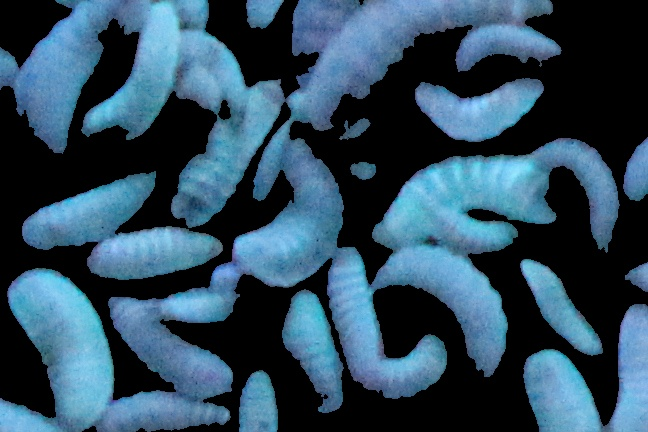larvae: (286, 1, 566, 140), (370, 242, 518, 388), (172, 79, 291, 226), (71, 1, 181, 158), (9, 1, 115, 158), (7, 272, 117, 418), (12, 157, 161, 257), (238, 150, 343, 283), (535, 128, 637, 263), (311, 232, 392, 391), (402, 62, 542, 149), (108, 301, 229, 395), (514, 252, 609, 370), (117, 299, 231, 393), (81, 222, 219, 288), (279, 287, 347, 409), (445, 12, 564, 78), (518, 345, 596, 432), (605, 290, 648, 432), (381, 329, 458, 401), (98, 391, 230, 432), (238, 360, 283, 432), (162, 289, 241, 327)
